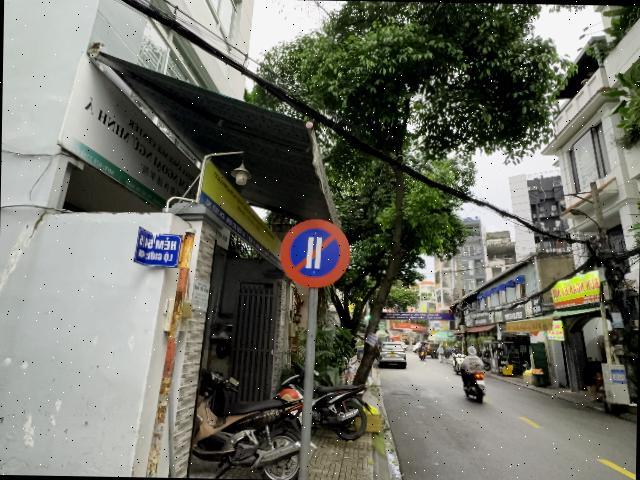cam-do-xe-ngay-chan: (280, 216, 350, 288)
